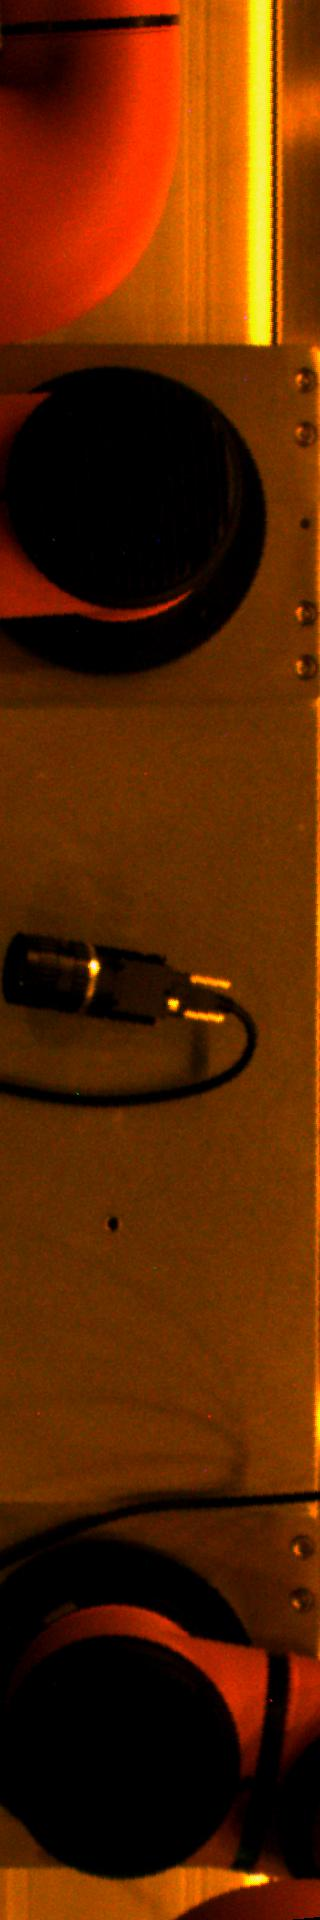keyPoint_2: (97, 1209, 128, 1239)
